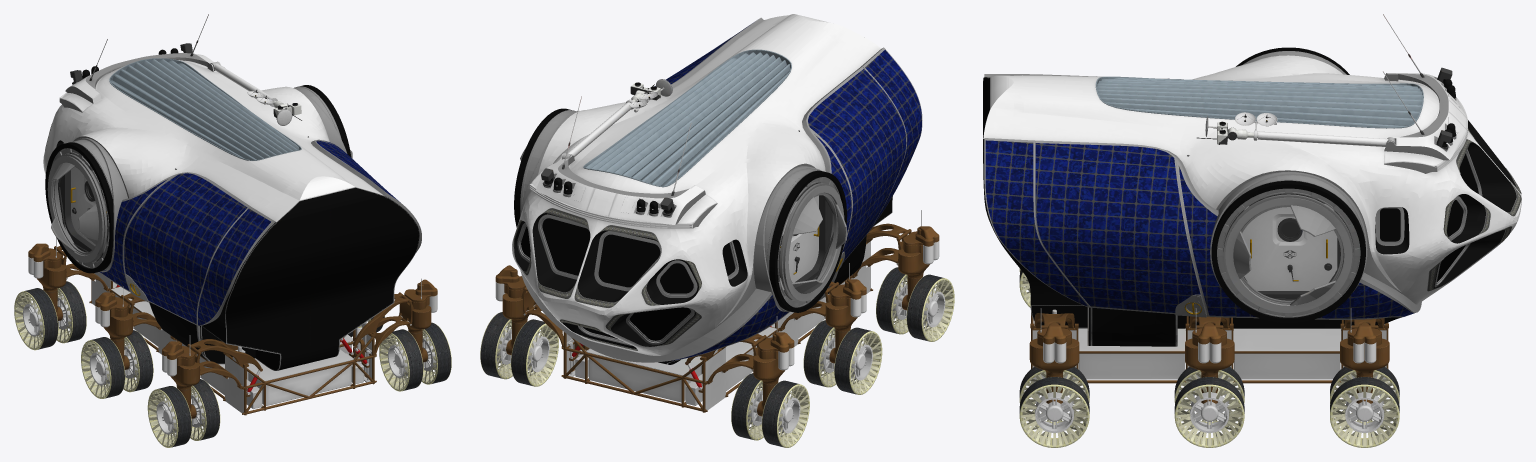
File: space-exploration-vehicle-ready.glb
3 views of the same model, side by side, from view 1: azimuth 30°, elevation 25°; view 2: azimuth 150°, elevation 25°; view 3: azimuth 270°, elevation 25° (orthographic). The views are drawn at different scales.
Parts seen in each view (by area): view 1: MMSEV_Chassis, tire-4, tire-0, tire-2, tire-5, upright-2, upright-0, upright-5, upright-4; view 2: MMSEV_Chassis, tire-2, tire-4, tire-0, tire-1, upright-4, upright-0, upright-2, upright-1; view 3: MMSEV_Chassis, tire-5, tire-3, tire-1, upright-5, upright-1, upright-3.
Boxes of the visible parts, x1,y1,x2,y2 form: MMSEV_Chassis: (43, 14, 421, 415); tire-4: (147, 379, 220, 447); tire-0: (14, 281, 86, 350); tire-2: (81, 330, 153, 398); tire-5: (379, 322, 451, 391); upright-2: (95, 292, 134, 369); upright-0: (28, 243, 67, 320); upright-5: (398, 279, 437, 362); upright-4: (162, 341, 201, 418); MMSEV_Chassis: (512, 14, 922, 412); tire-2: (803, 320, 882, 394); tire-4: (876, 267, 954, 341); tire-0: (731, 373, 809, 447); tire-1: (480, 312, 558, 386); upright-4: (896, 226, 939, 310); upright-0: (751, 332, 794, 416); upright-2: (824, 279, 866, 363); upright-1: (495, 265, 536, 354); MMSEV_Chassis: (983, 14, 1521, 383); tire-5: (1019, 366, 1089, 447); tire-3: (1174, 366, 1244, 447); tire-1: (1330, 366, 1399, 447); upright-5: (1029, 322, 1079, 403); upright-1: (1340, 322, 1389, 403); upright-3: (1185, 322, 1234, 403).
Bounding box in the file's own units: 3.38 × 3.32 × 4.95.
1 material, 1 textured.
